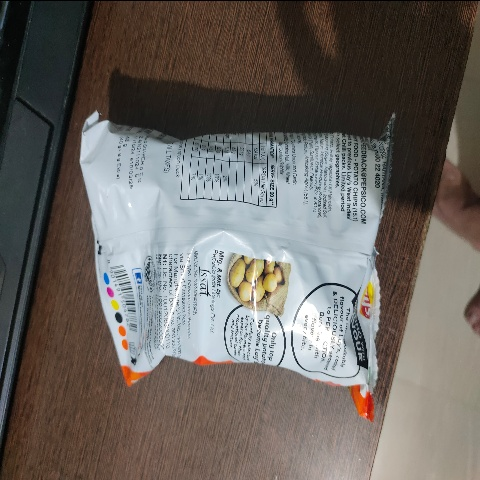lays_orange_pack: (64, 98, 410, 426)
